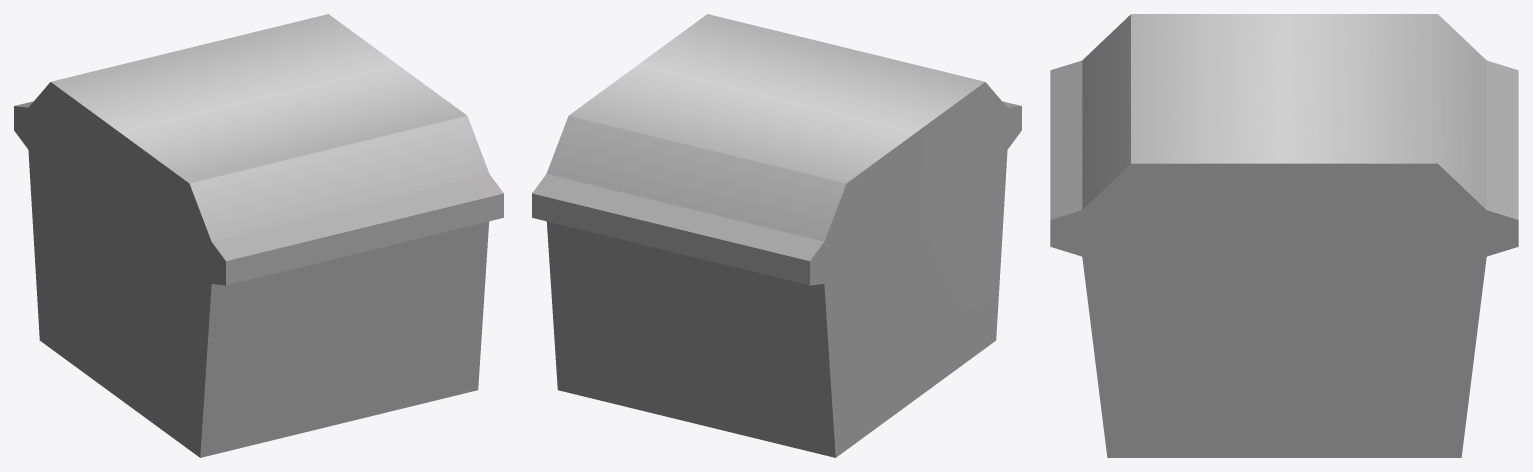
The model's file is Museum_Balustrade_Top.fbx.
The picture shows the model from 3 angles, left to right: view 1: azimuth 30°, elevation 25°; view 2: azimuth 150°, elevation 25°; view 3: azimuth 270°, elevation 25°; orthographic projection. The views are drawn at different scales.
Parts seen in each view (by area): view 1: Cylinder; view 2: Cylinder; view 3: Cylinder.
Part boxes in pixels (box(x1,y1,x2,y2)): Cylinder: box(14, 14, 503, 457); Cylinder: box(532, 14, 1021, 457); Cylinder: box(1050, 14, 1518, 457).
Size of the model in its own units: 0.2529 by 0.2318 by 0.3342.
